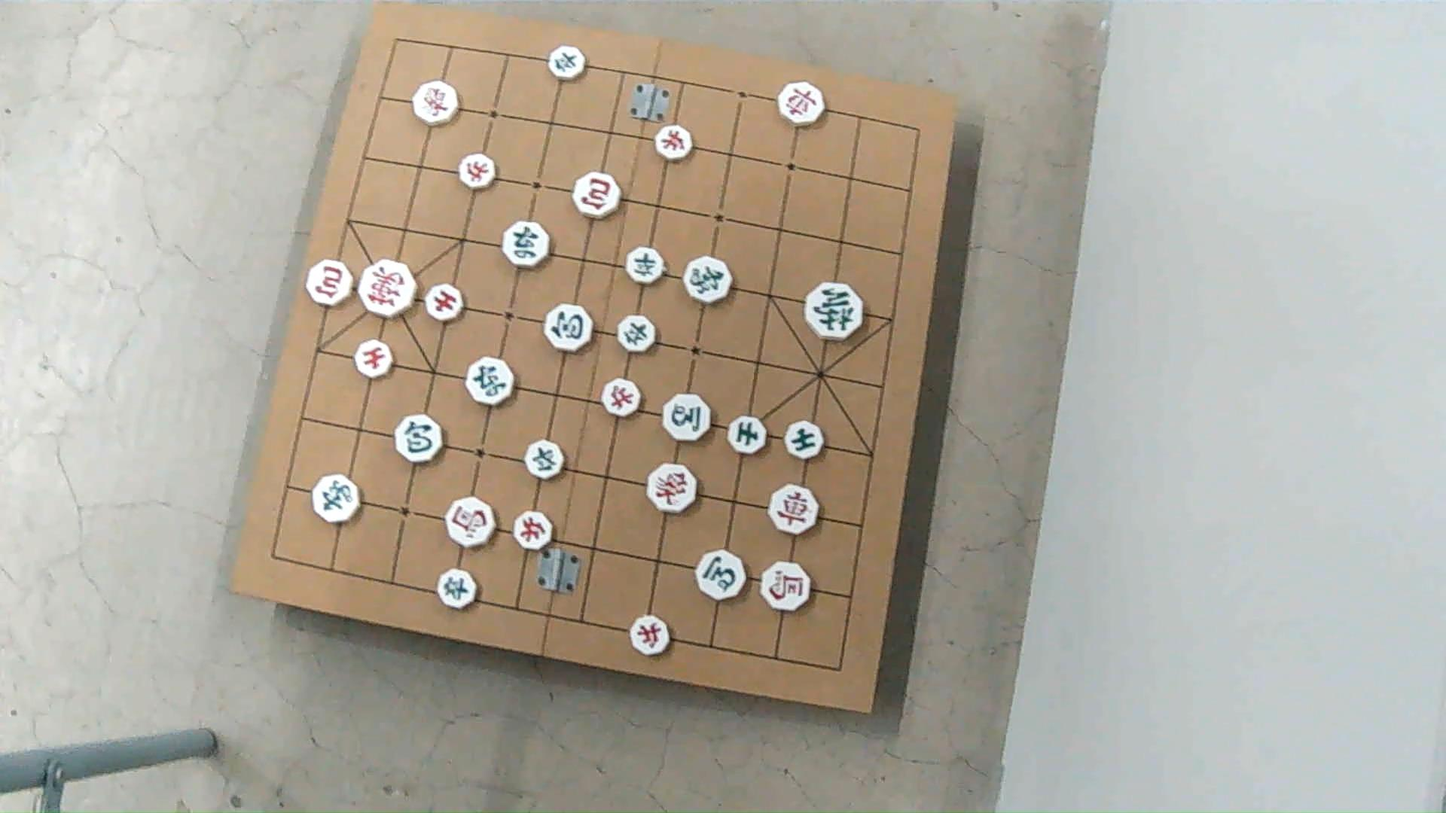cha_green: (466, 358, 514, 407), (501, 221, 548, 268)
cha_red: (770, 486, 819, 534), (778, 83, 824, 126)
jol_green: (438, 568, 478, 607), (618, 315, 657, 354), (525, 440, 563, 479), (626, 247, 664, 285), (549, 45, 586, 80)
jol_red: (602, 377, 640, 416), (633, 616, 671, 655), (514, 510, 552, 549), (459, 153, 496, 189), (654, 126, 692, 161)
ma_green: (696, 551, 746, 602), (665, 394, 714, 442)
ma_red: (447, 498, 496, 547), (760, 562, 810, 610)
po_green: (395, 415, 442, 463), (545, 304, 592, 352)
po_red: (575, 172, 624, 218), (306, 260, 352, 306)
sa_green: (786, 423, 824, 461), (728, 416, 766, 453)
sa_red: (356, 340, 395, 378), (426, 284, 465, 322)
sang_green: (311, 474, 359, 523), (684, 257, 732, 305)
sang_red: (646, 464, 697, 513), (413, 83, 457, 126)
wang_green: (803, 284, 861, 342)
wang_red: (359, 257, 417, 315)
